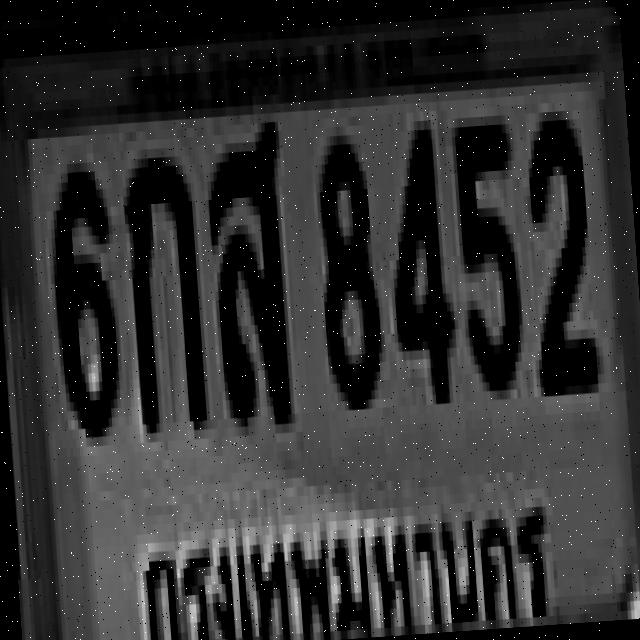10GorGai: (120, 146, 202, 424)
2: (518, 100, 594, 388)
4: (380, 119, 452, 397)
49SorSuea: (199, 112, 294, 418)
5: (450, 115, 522, 382)
6: (42, 152, 119, 430)
8: (308, 124, 382, 402)
Bangkok: (135, 498, 566, 640)
